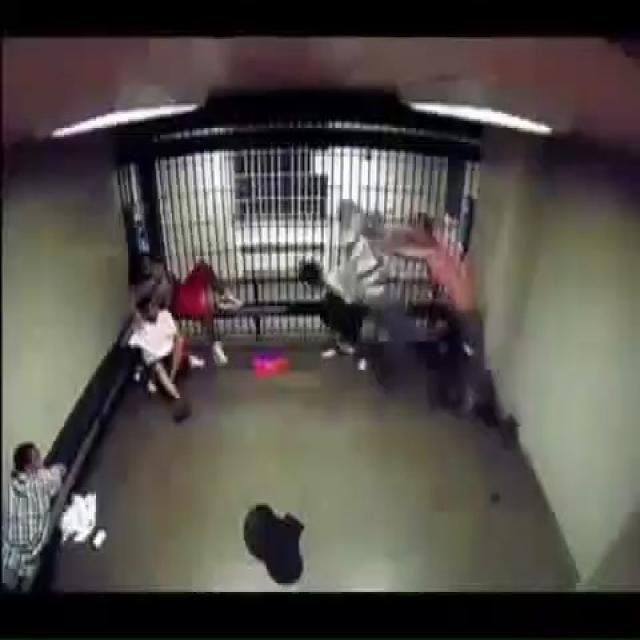fight: (319, 180, 516, 447)
